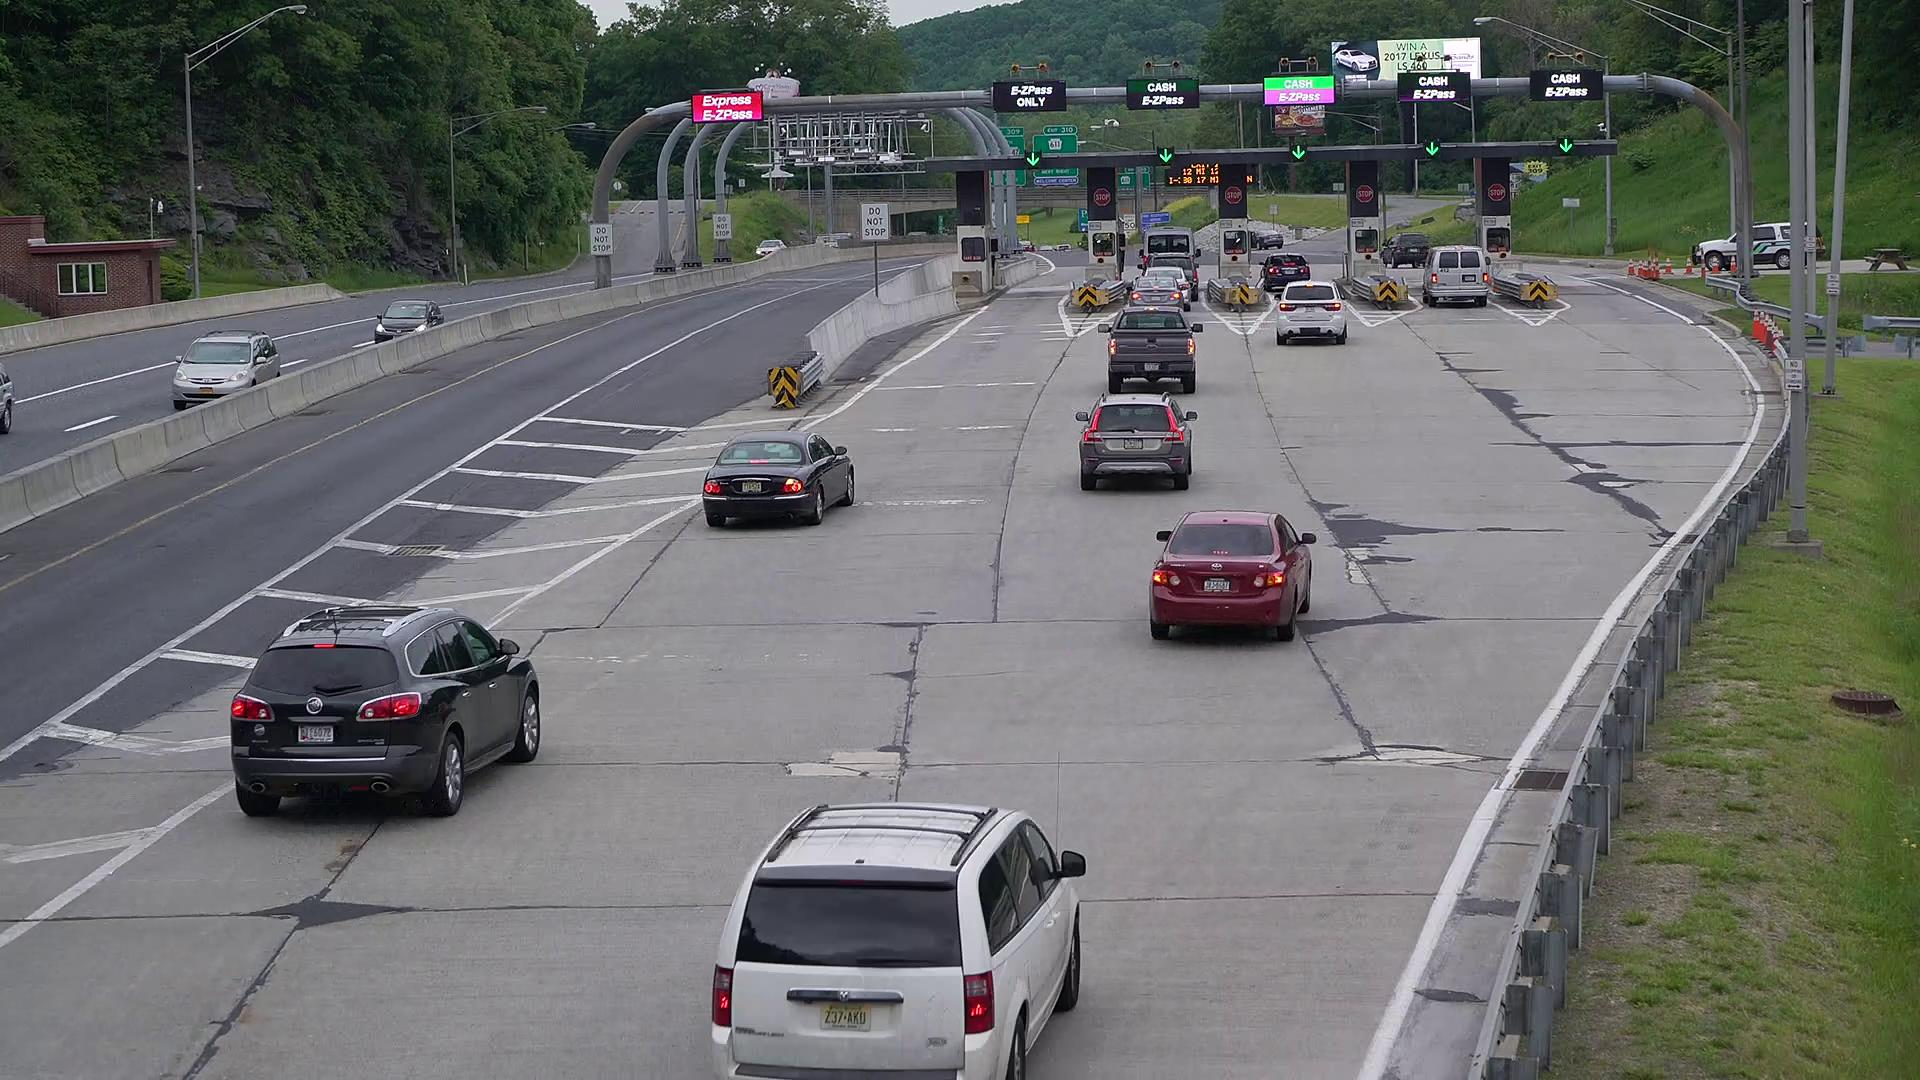car: (225, 596, 549, 818), (1139, 501, 1324, 649), (700, 425, 857, 529), (1068, 398, 1203, 500), (1098, 297, 1200, 392), (1274, 276, 1349, 345), (1133, 253, 1200, 305), (1120, 272, 1183, 320), (1255, 241, 1309, 291)
mini van: (688, 789, 1091, 1079), (1419, 239, 1487, 306), (1139, 218, 1203, 289)
